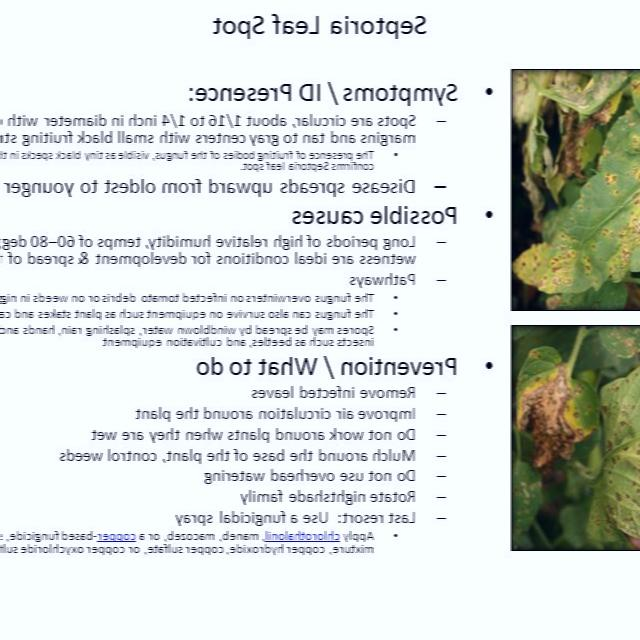Tomato Septoria leaf spot: (513, 114, 640, 298), (515, 338, 609, 480), (593, 359, 640, 541)
